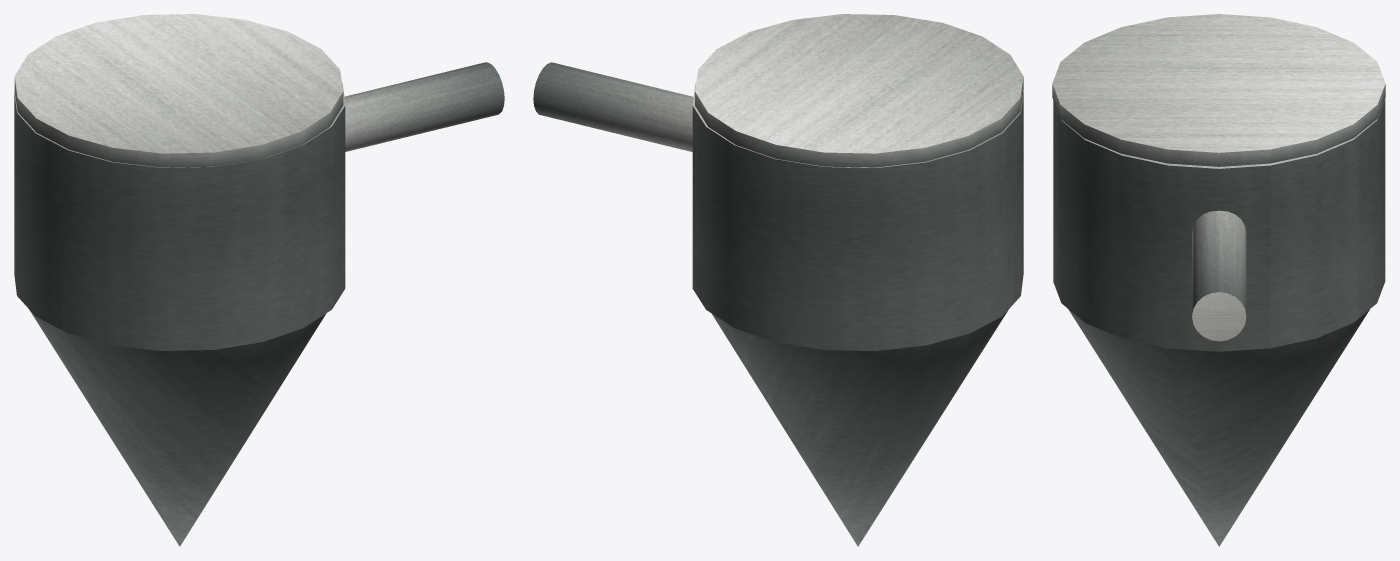
Rendered from dipositor.fbx.
The picture shows the model from 3 angles, left to right: view 1: azimuth 30°, elevation 25°; view 2: azimuth 150°, elevation 25°; view 3: azimuth 270°, elevation 25°; orthographic projection.
Visible parts, largest first — view 1: pCylinder5; view 2: pCylinder5; view 3: pCylinder5.
Part boxes in pixels (x1,y1,x2,y2): pCylinder5: [14, 14, 504, 546]; pCylinder5: [533, 14, 1023, 546]; pCylinder5: [1052, 14, 1385, 546].
Size of the model in its own units: 19.29 by 18.76 by 12.24.
1 material, 1 textured.
